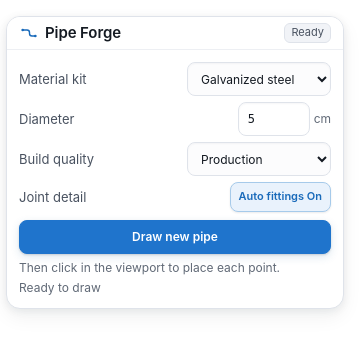
a failed tool command is explained and the action becomes available again
This screenshot has width=364, height=364.
Click the button with test id "pipe-forge-start": (175, 237) [19,220,331,254]
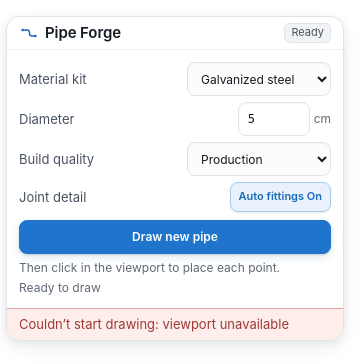
Expected: the message shows "viewport unavailable", [19,316,289,332]
